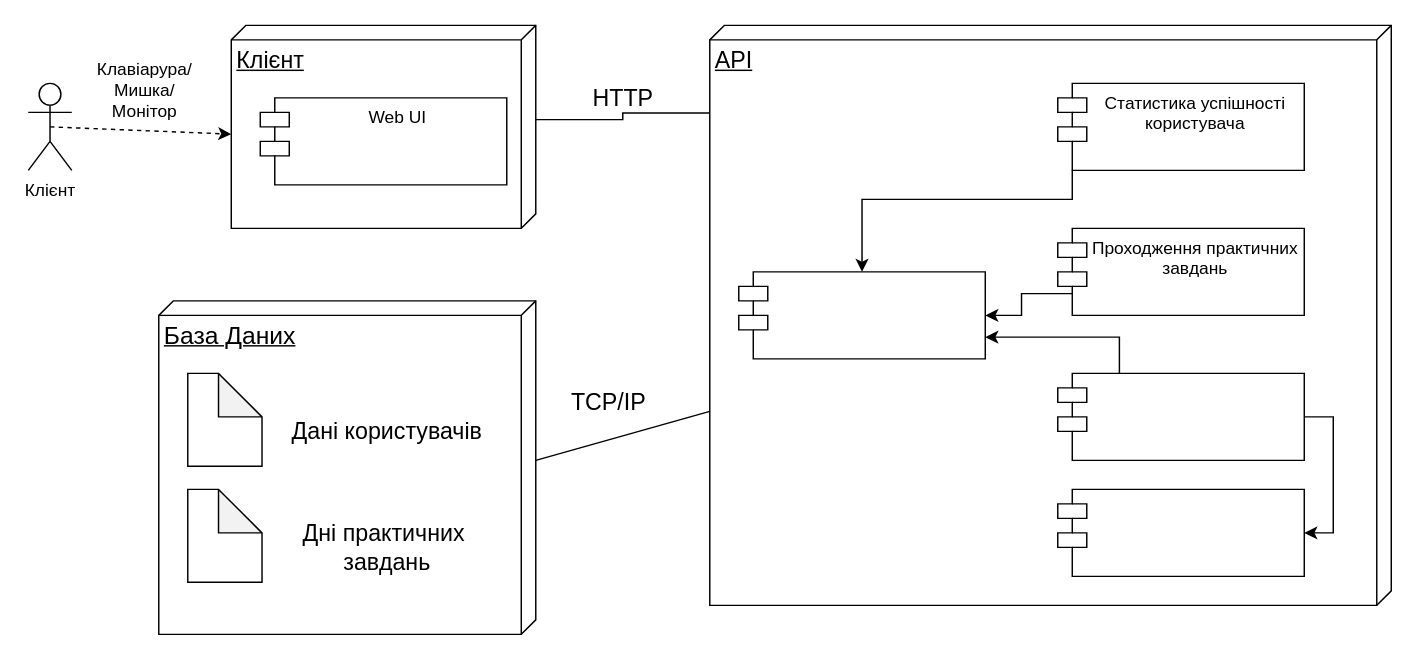
This 1417x660 diagram has some shape labels left out. The centre of each missing label's shape, as x and y in pixels:
Авторизація: point (1180, 532)
Адміністрування: point (1180, 416)
Взаємодія з БД: point (861, 314)
